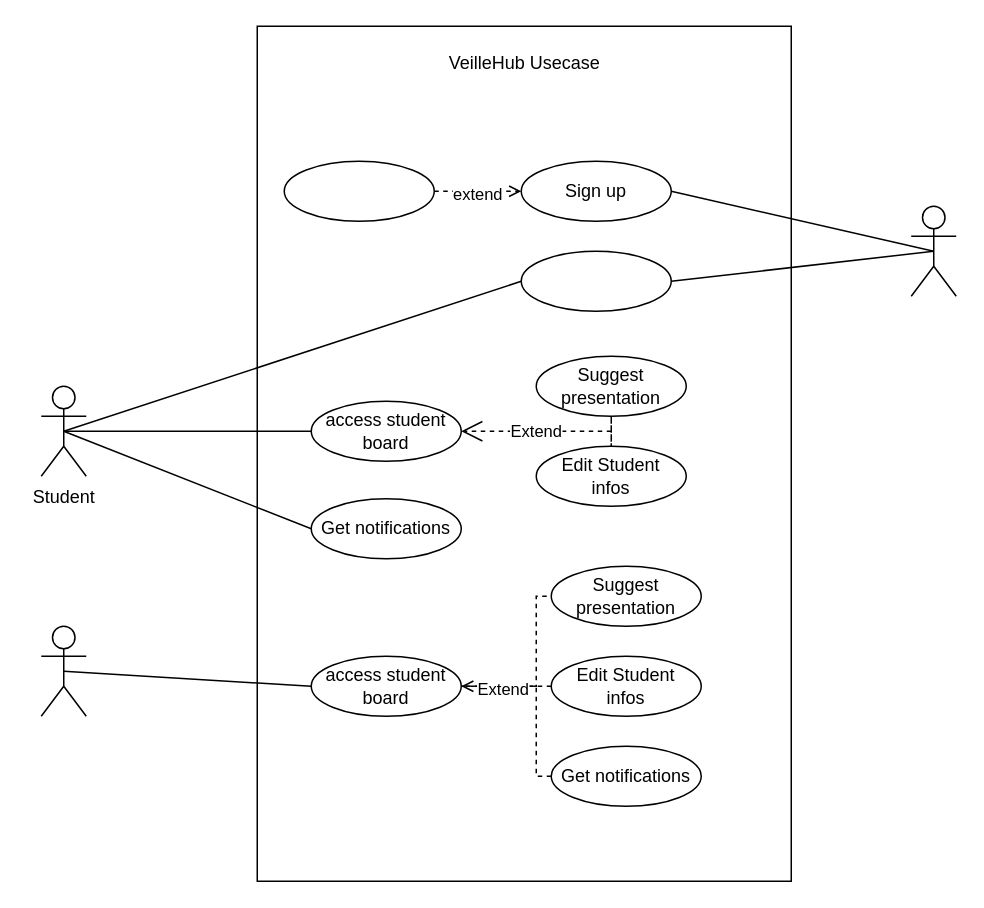
Image size: 984x908. Some labels were removed from this diagram. The shapes that lost their labels are listed below. From the top down, each one's centre as x and y in pixels, then its label:
pixel 358 190: Sign in
pixel 933 250: Visitor
pixel 595 280: access calendar
pixel 63 670: Instructor
